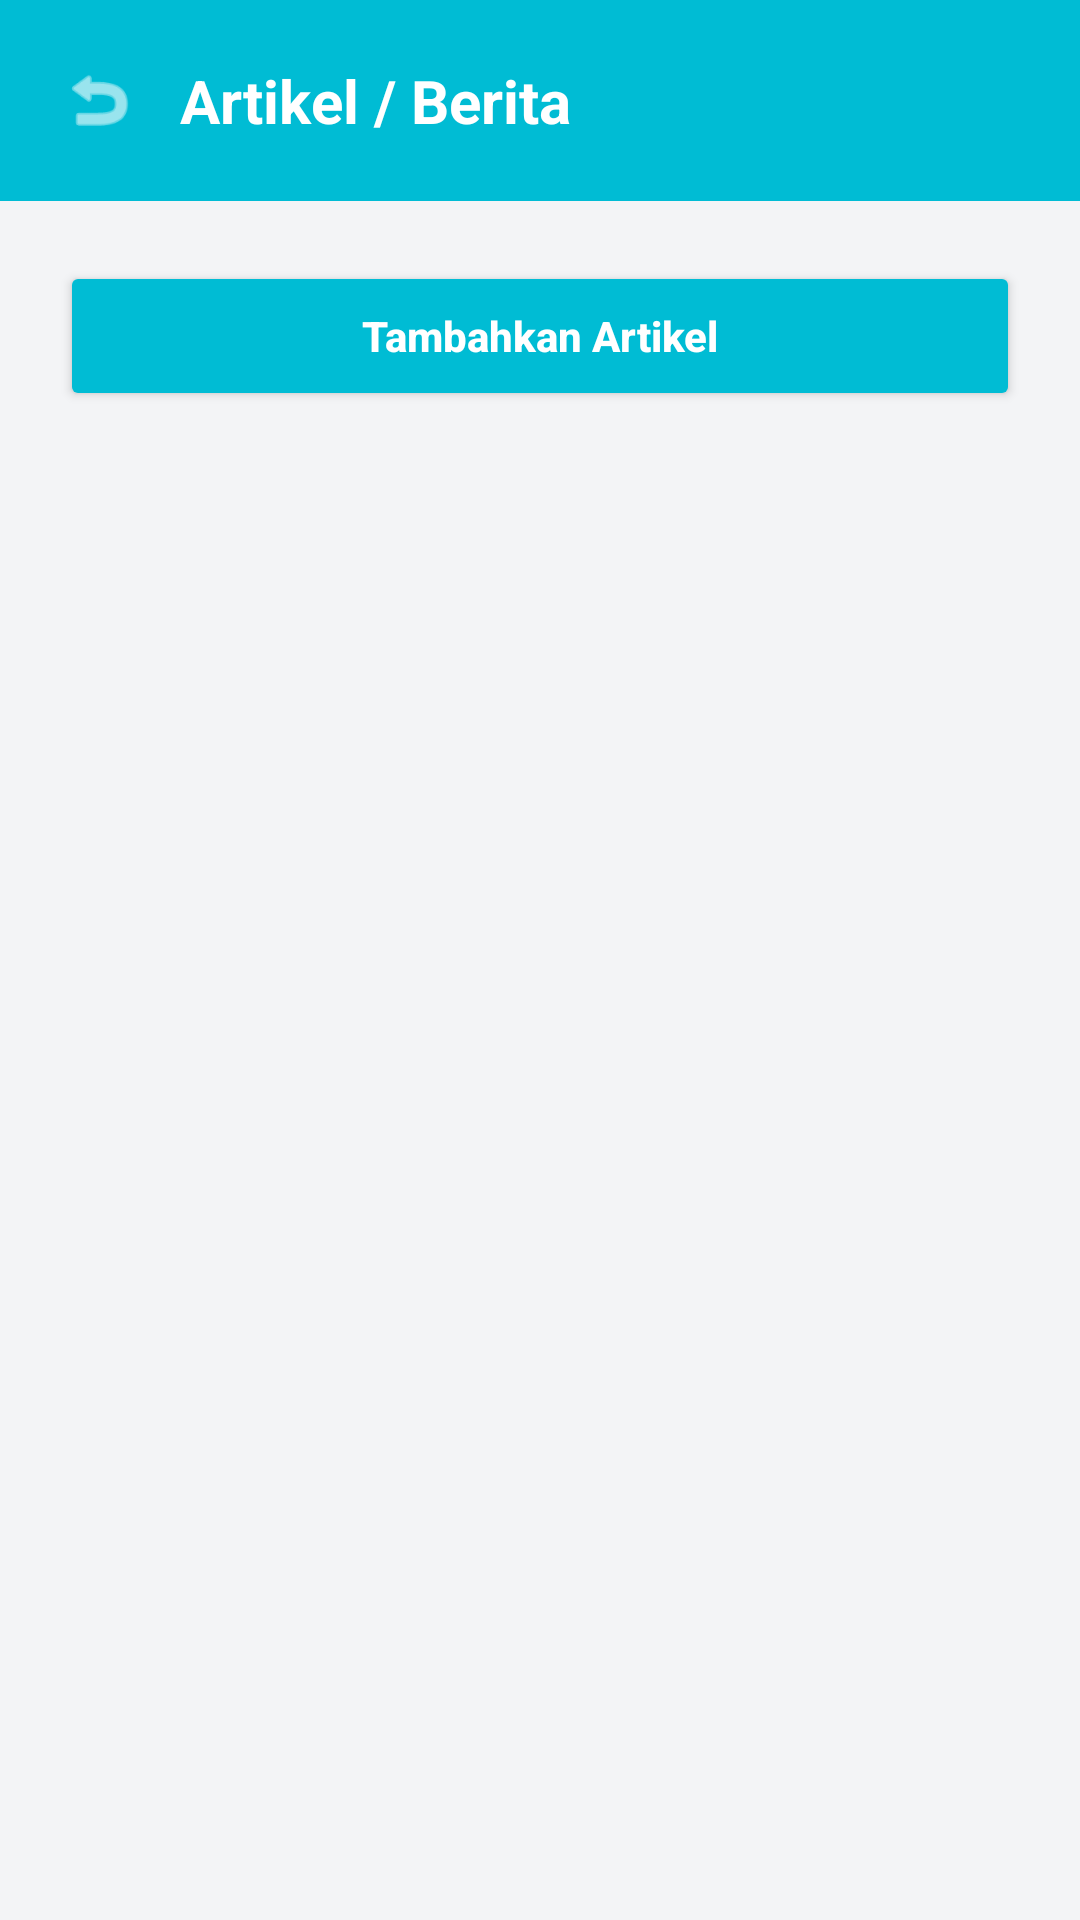

Icons on this 1080px x 1920px Android screen, each with its box as (x1, y1, x2, y2):
revert: (72, 75, 128, 126)
